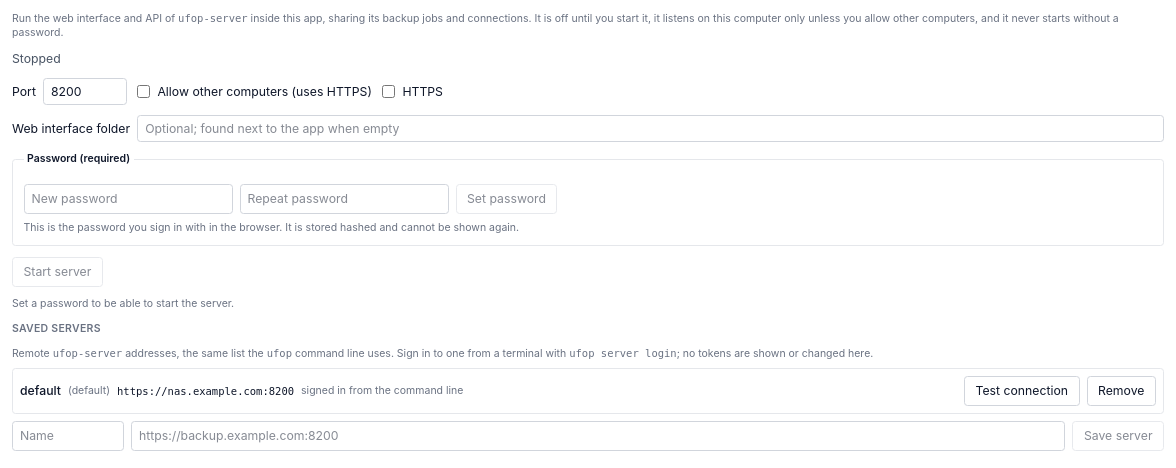
Test case: Local web server › makes other computers use HTTPS
Check: the message "Stopped" is shown, box [12,51,61,66]
Click the checkbox labelled "Allow other computers (uses HTTPS)". click: click(144, 91)
box: [137,85,150,98]
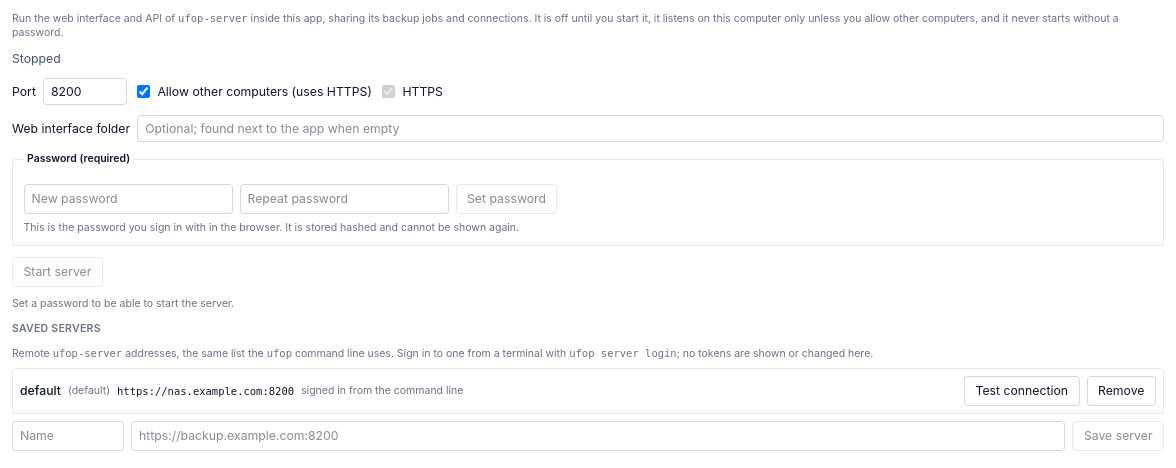
Check: the checkbox labelled "HTTPS" is checked, box [382,85,395,98]
Check: the checkbox labelled "HTTPS" is disabled, box [382,85,395,98]
